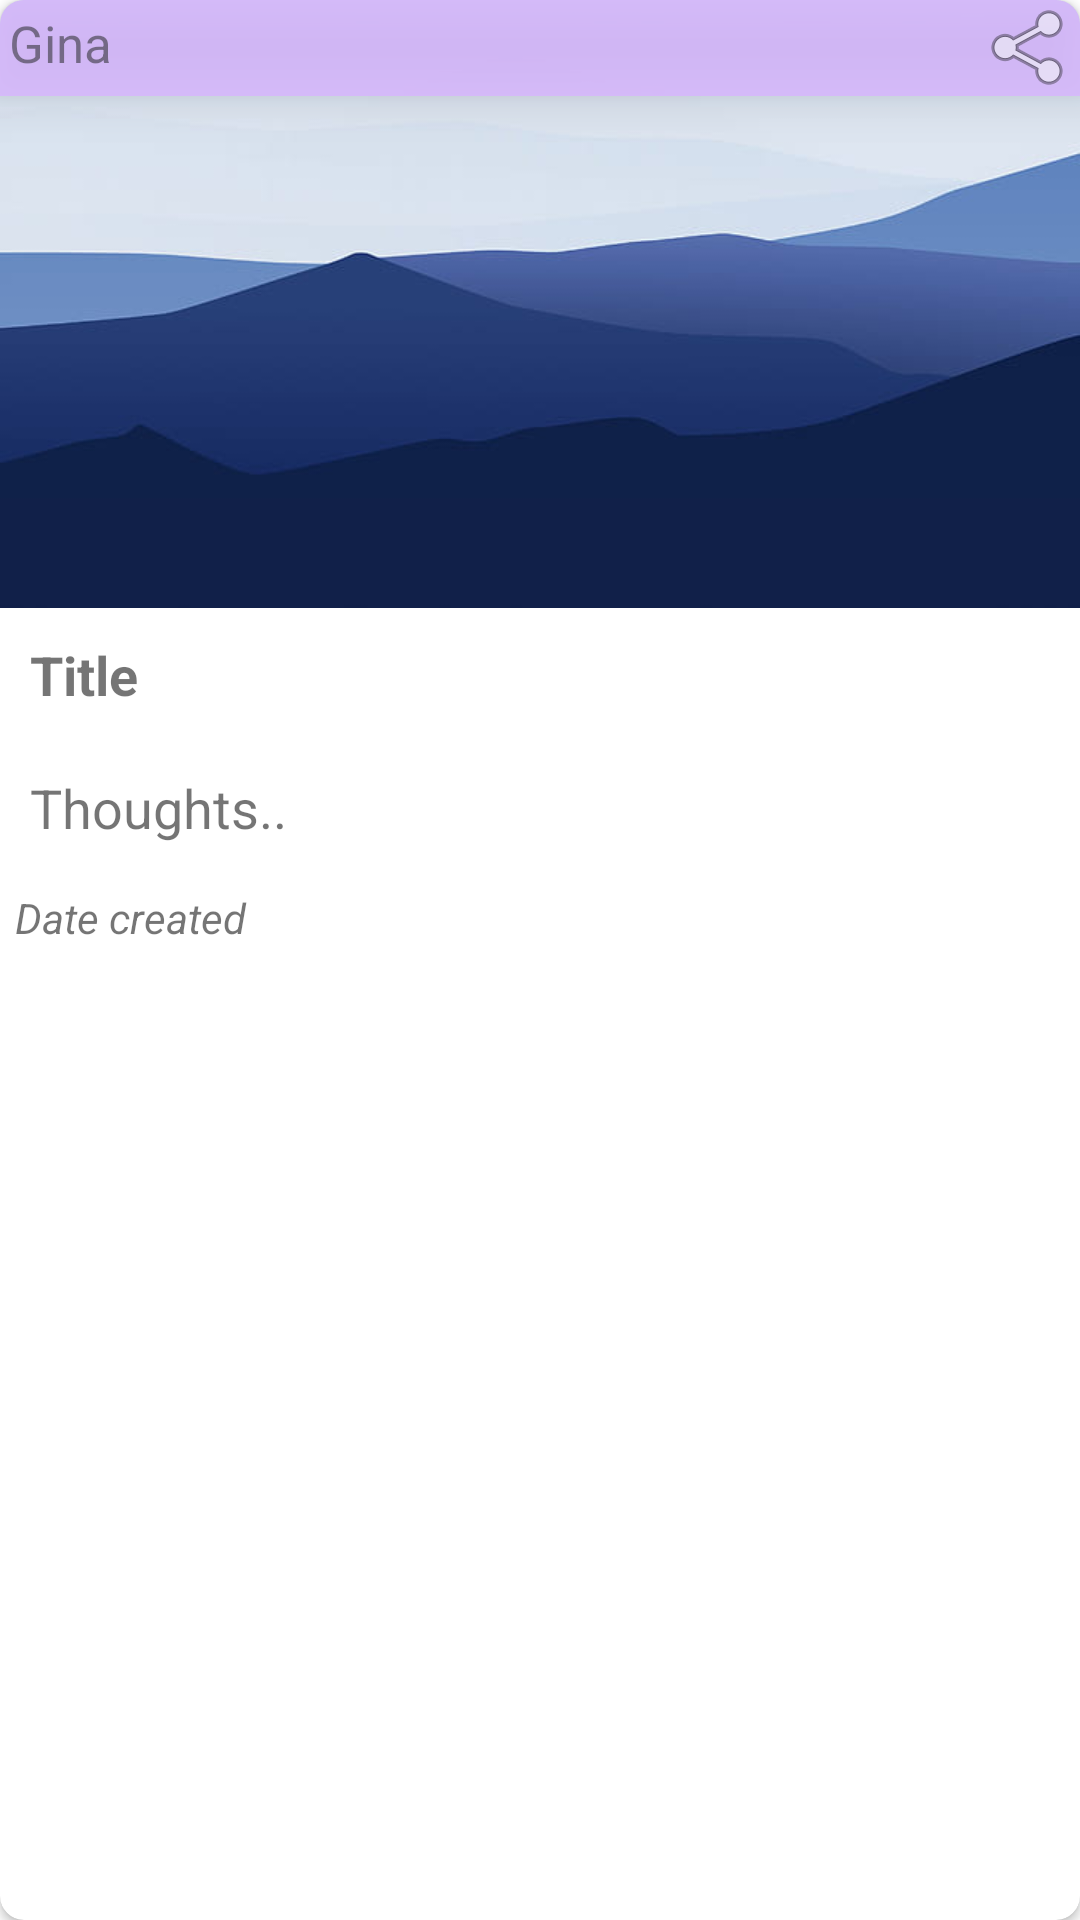

Named icons in this screenshot (1080 x 1920) and their centers, point (x, y):
share: point (1035, 42)
